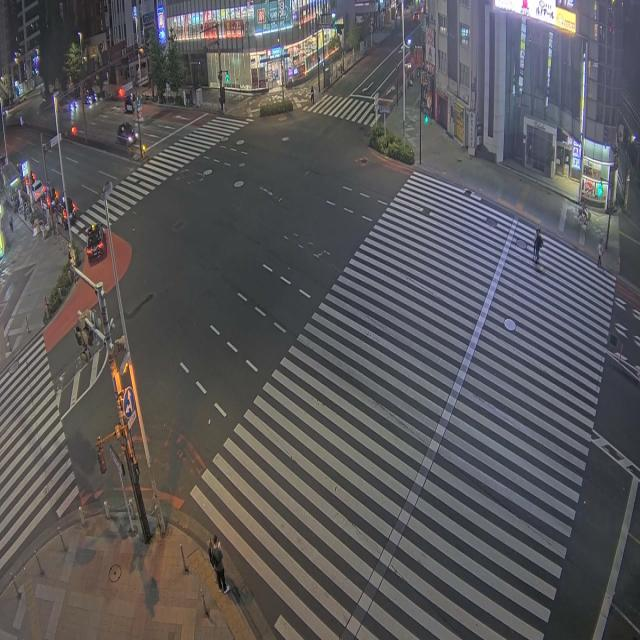car: (86, 224, 105, 262), (61, 196, 78, 223), (118, 123, 137, 144), (56, 203, 68, 228), (32, 181, 46, 201), (124, 96, 135, 113), (84, 91, 96, 105), (69, 99, 78, 111)
